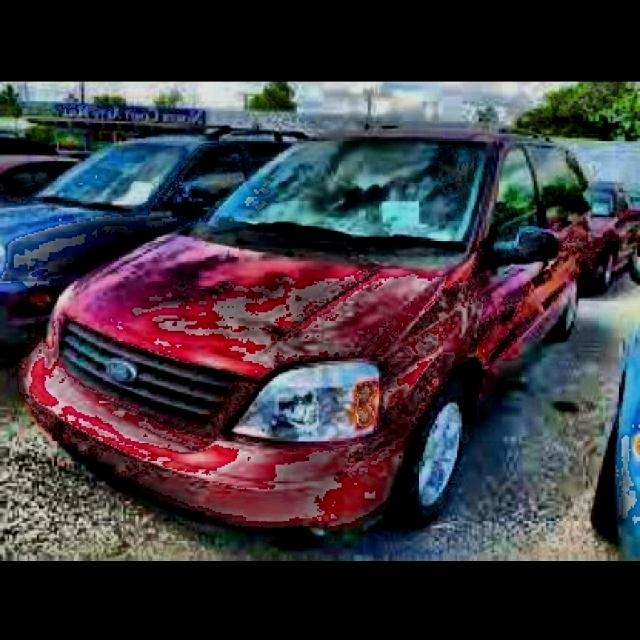maroon: (62, 122, 592, 520)
